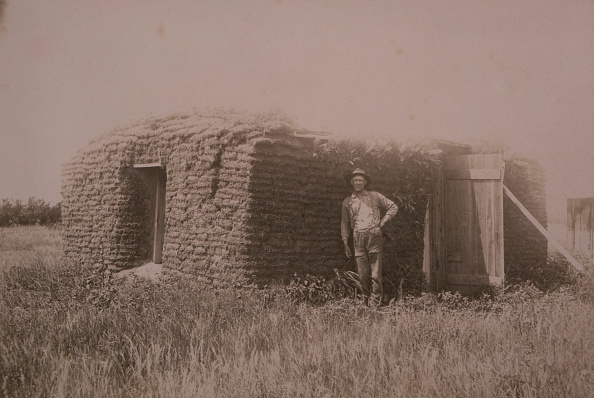em pe: (337, 162, 396, 296)
